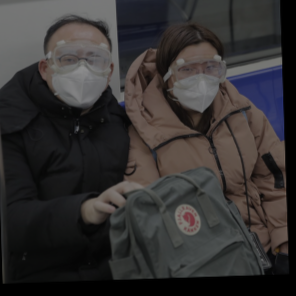with_mask: (49, 47, 109, 109), (171, 57, 222, 113)
